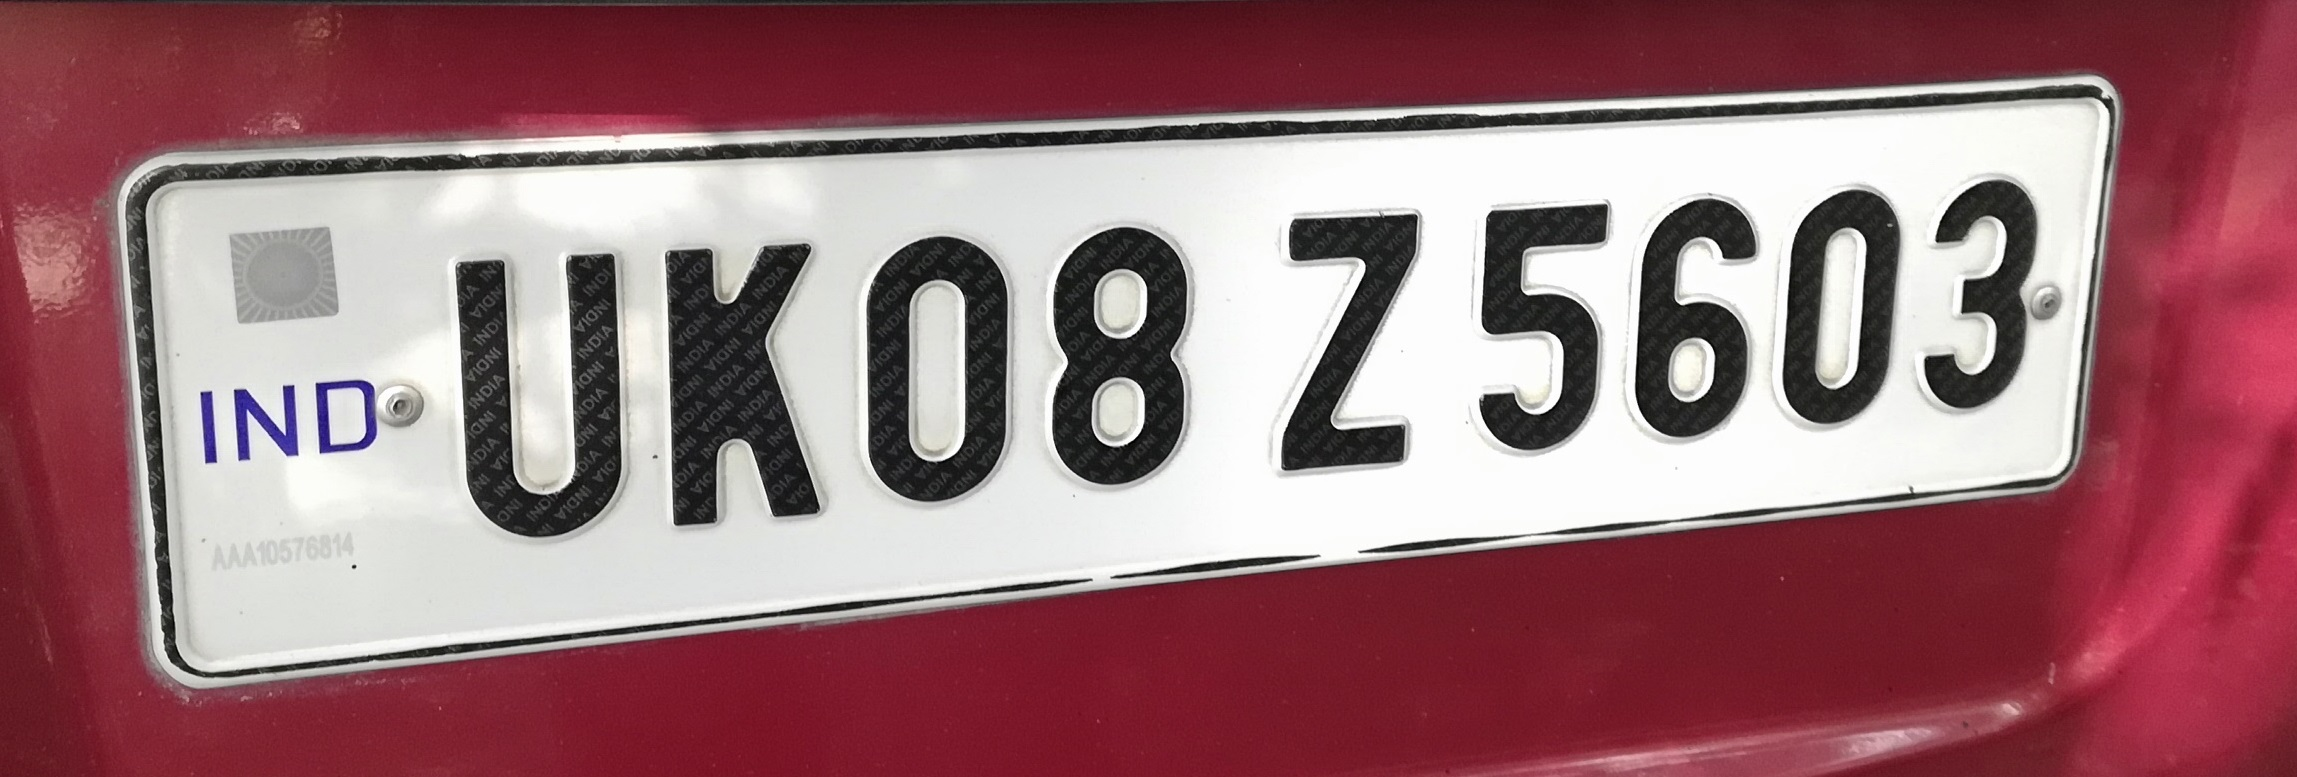numberplate: (109, 68, 2128, 691)
